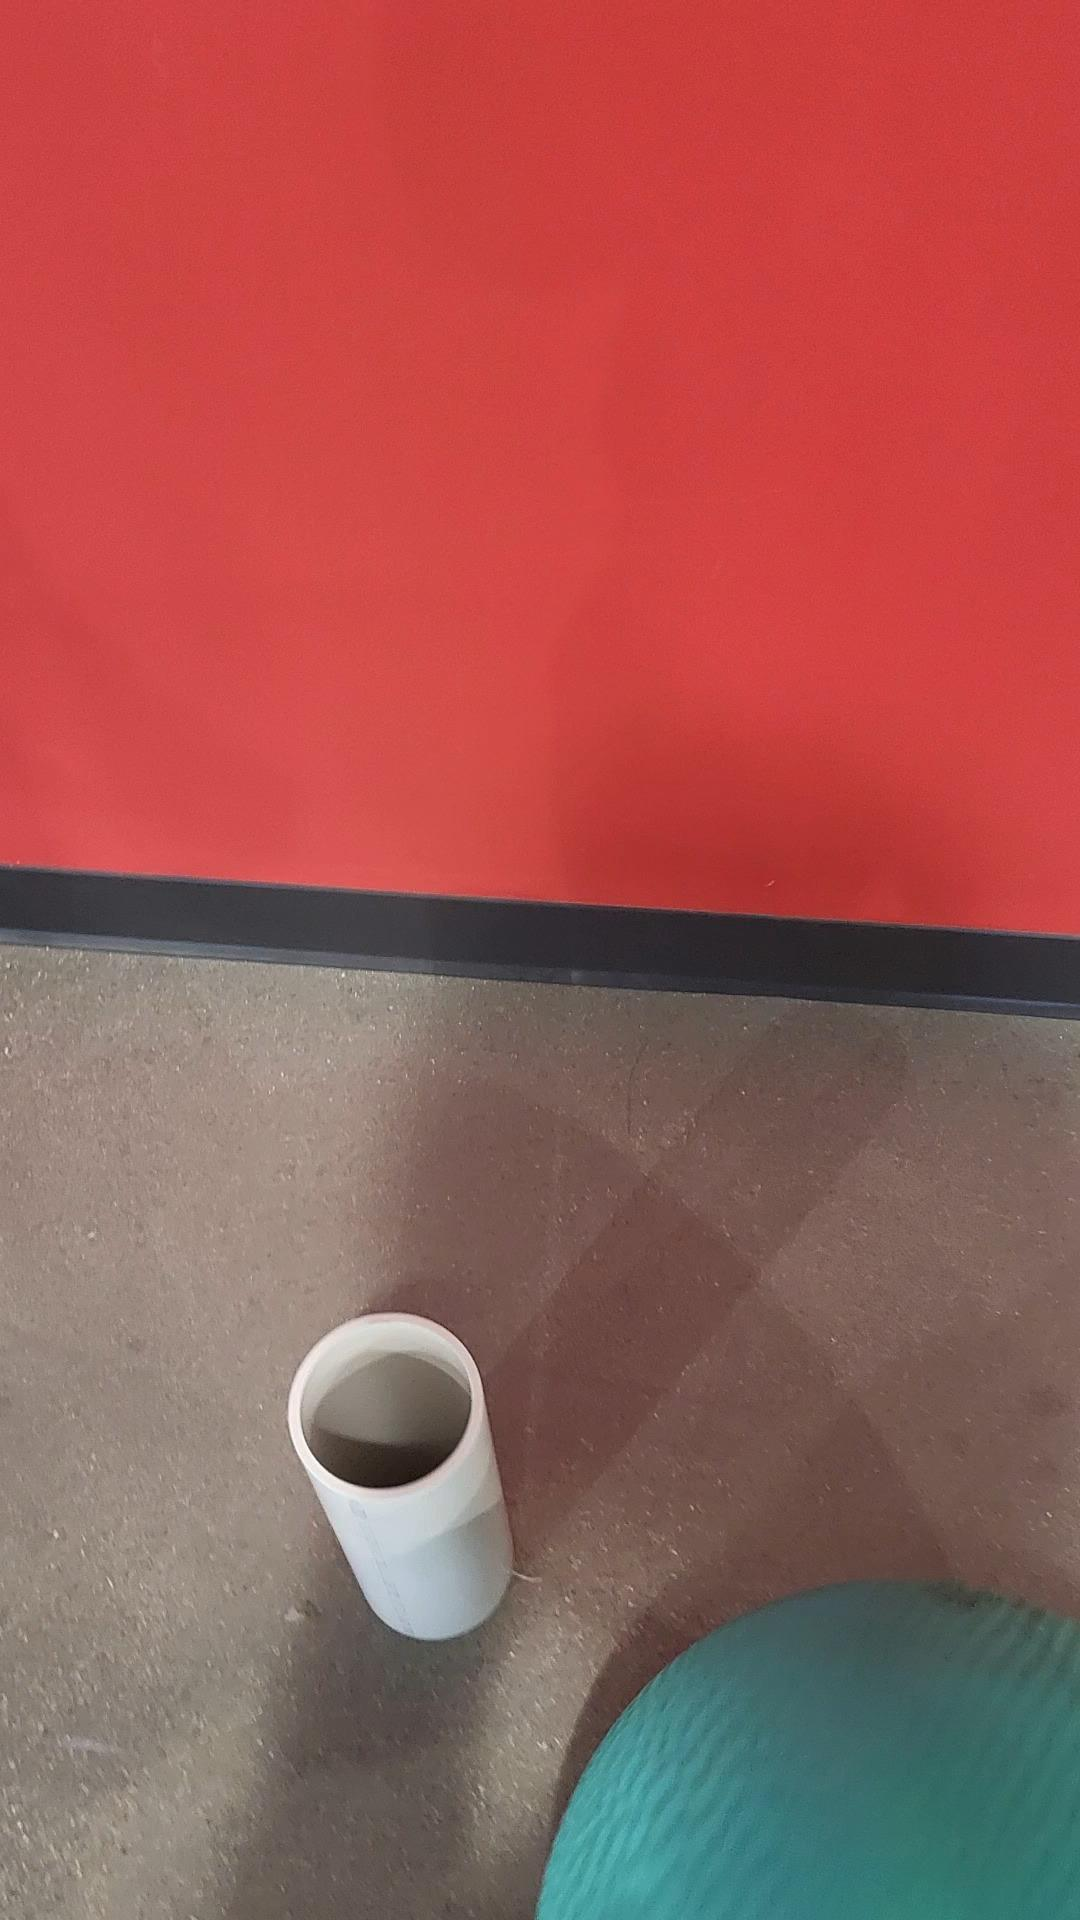algae: (529, 1577, 1079, 1920), (289, 1305, 514, 1643)
